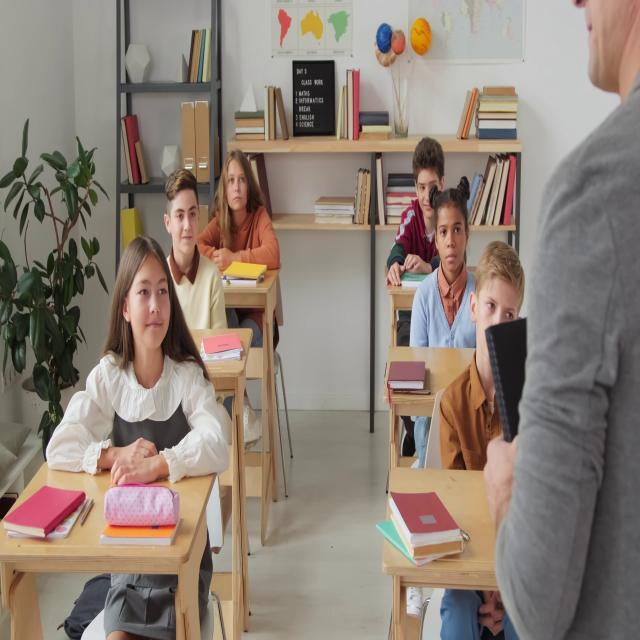listening: (49, 239, 233, 479), (436, 245, 526, 473), (200, 149, 282, 355), (409, 182, 477, 358), (164, 168, 229, 334), (384, 138, 445, 294)
